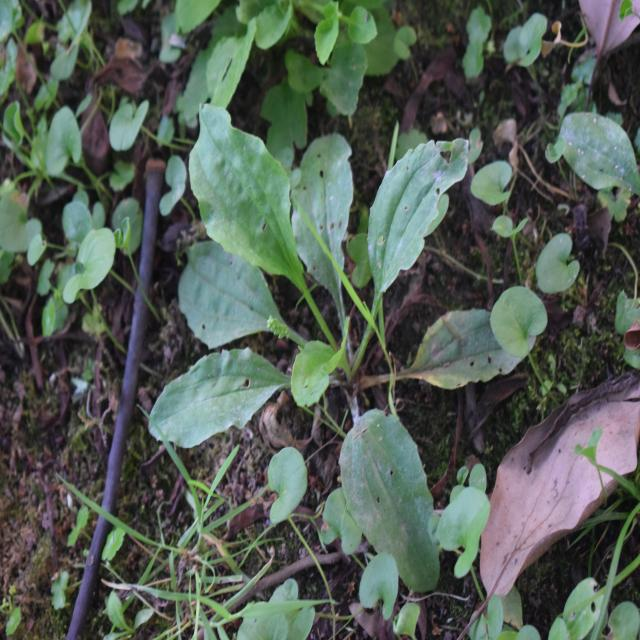plantain: (164, 94, 496, 506)
